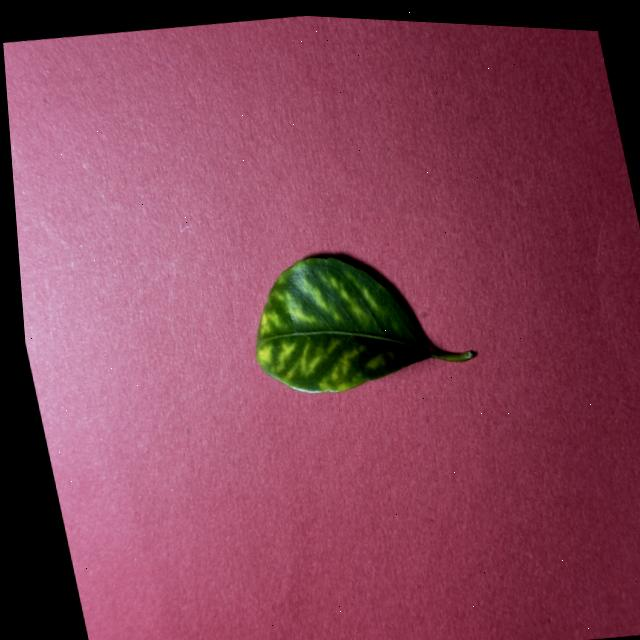greening: (256, 257, 475, 392)
